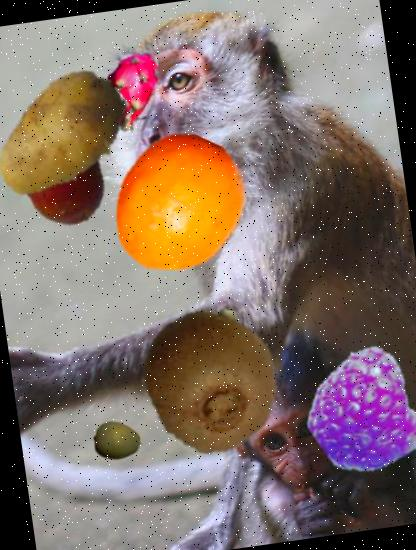Kiwi: (126, 298, 290, 462)
Lemon: (96, 124, 260, 288)
Pear: (90, 412, 148, 470)
Pitahaya: (84, 41, 180, 138)
Potato: (0, 51, 142, 218), (0, 107, 124, 236)
Raspberry: (297, 345, 416, 481)
